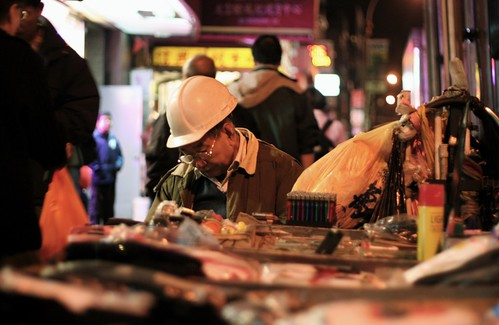person hardhat: (167, 75, 239, 179)
